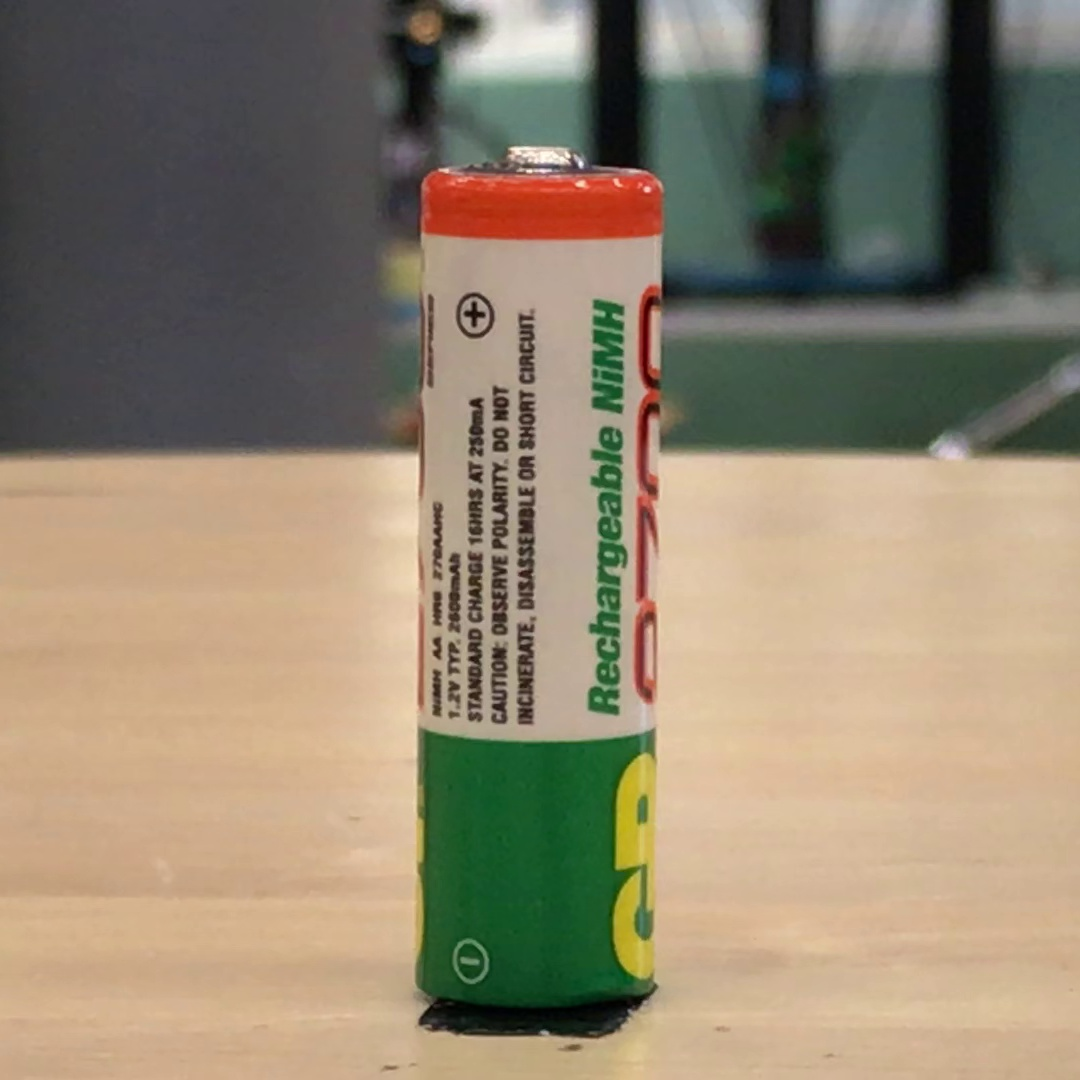keyword: (438, 673, 470, 728)
